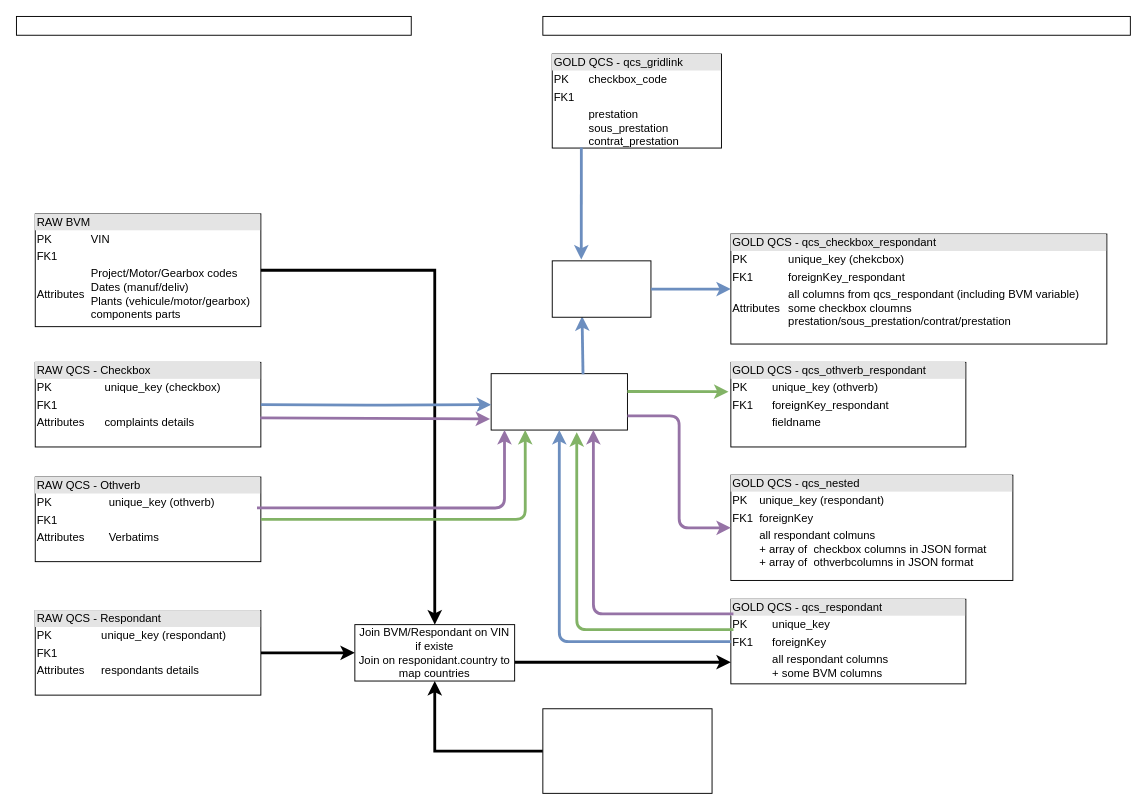
Some shapes in this 1147 by 810 pixel diagram are drawn without their labels. The shapes that lost their labels are listed below. From the top down, each one's centre as x and y in pixels, then its label:
At (213,25): "RAW Zone".
At (836,25): "GOLD Zone".
At (601,288): "Join on checkbox_code".
At (558,401): "Join on responidant_ num & date_suveyed_year_cy".
At (627,750): "GOLD QCS - mapping_countries PK country_name FK1 foreignKey fieldname".
